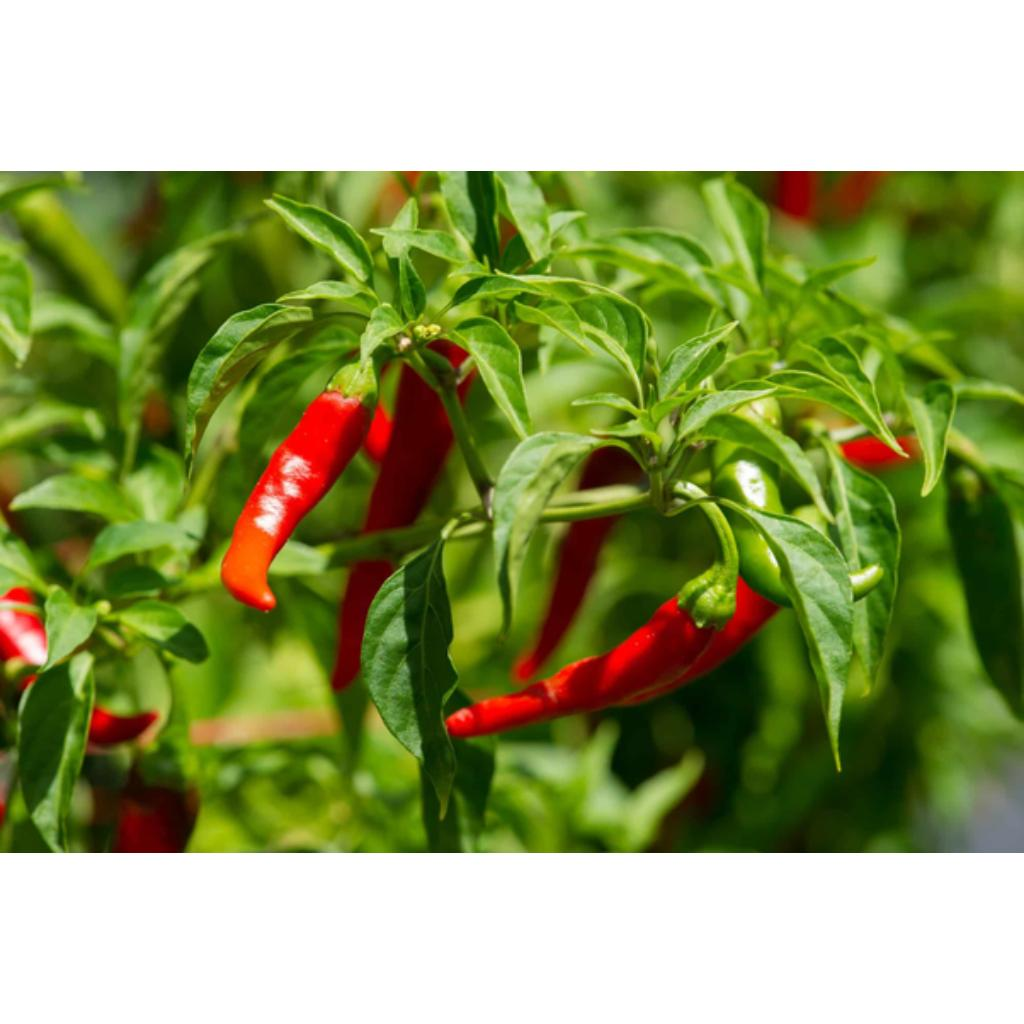chili: (446, 579, 778, 737), (222, 391, 372, 610), (364, 365, 454, 532), (332, 561, 392, 690), (432, 341, 466, 367)
